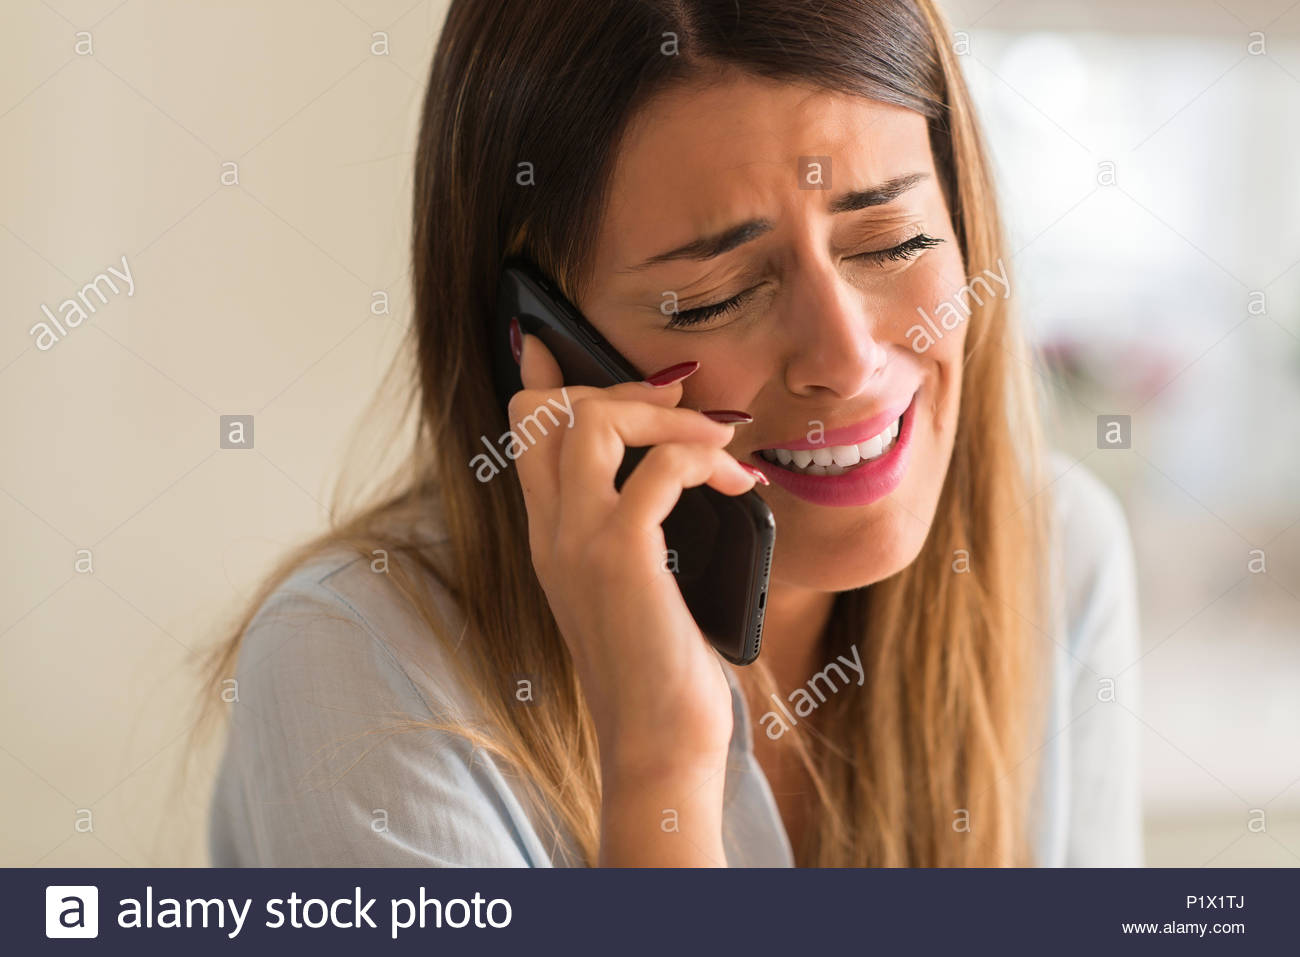phone: (493, 341, 772, 677)
talk: (476, 148, 980, 782)
